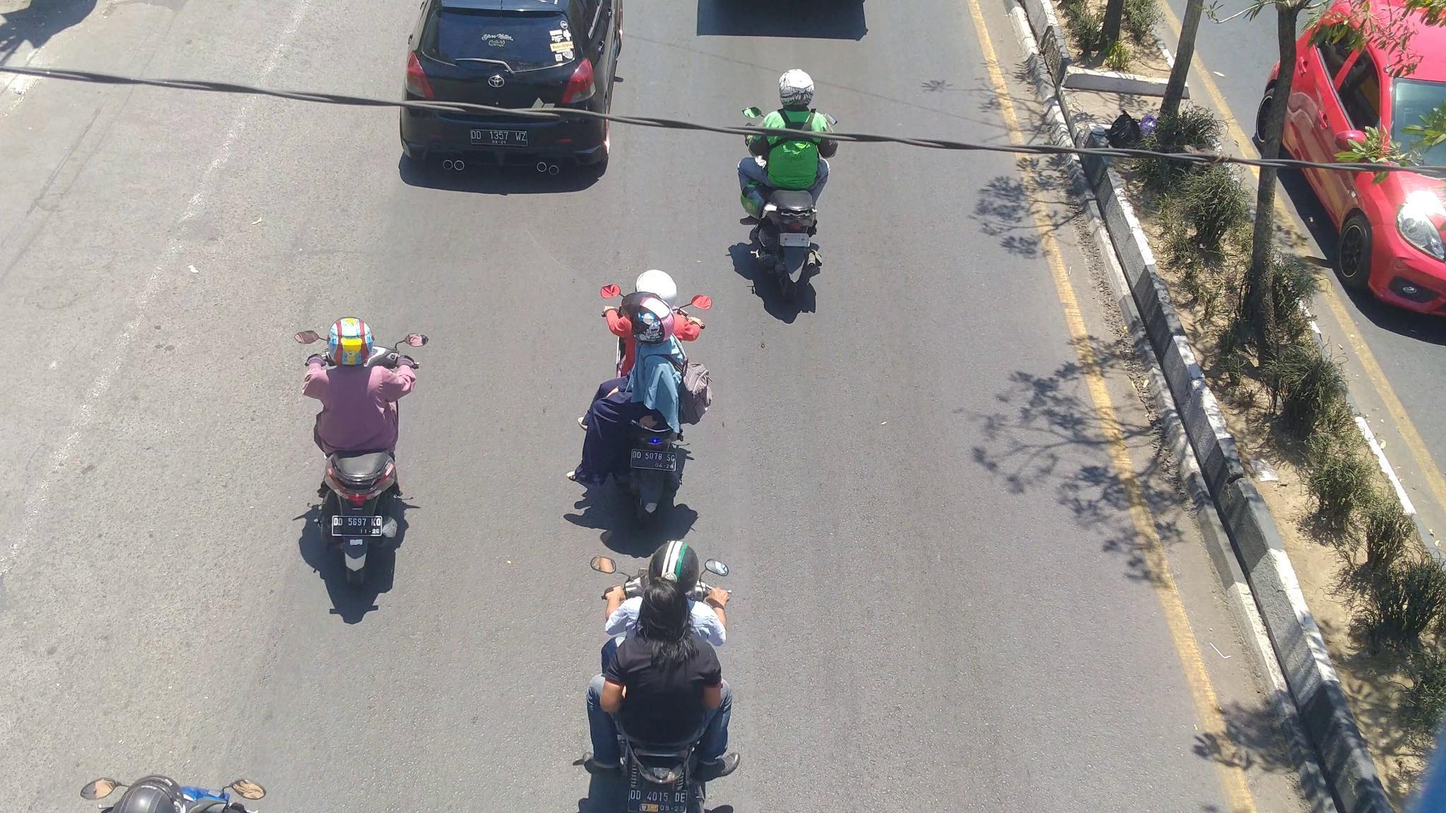Helmet: (613, 286, 678, 349), (642, 537, 703, 600), (320, 311, 378, 372), (770, 61, 825, 114), (630, 264, 687, 312)
bike: (583, 546, 748, 813), (294, 322, 431, 589), (596, 280, 714, 524), (740, 101, 841, 313)
no-helmet: (630, 573, 701, 655)
number-plate: (625, 444, 679, 473), (329, 511, 385, 538), (627, 788, 687, 807)
rider: (587, 578, 741, 782), (570, 289, 709, 487), (600, 540, 730, 673), (303, 314, 419, 460), (738, 69, 837, 211), (601, 264, 705, 370)
